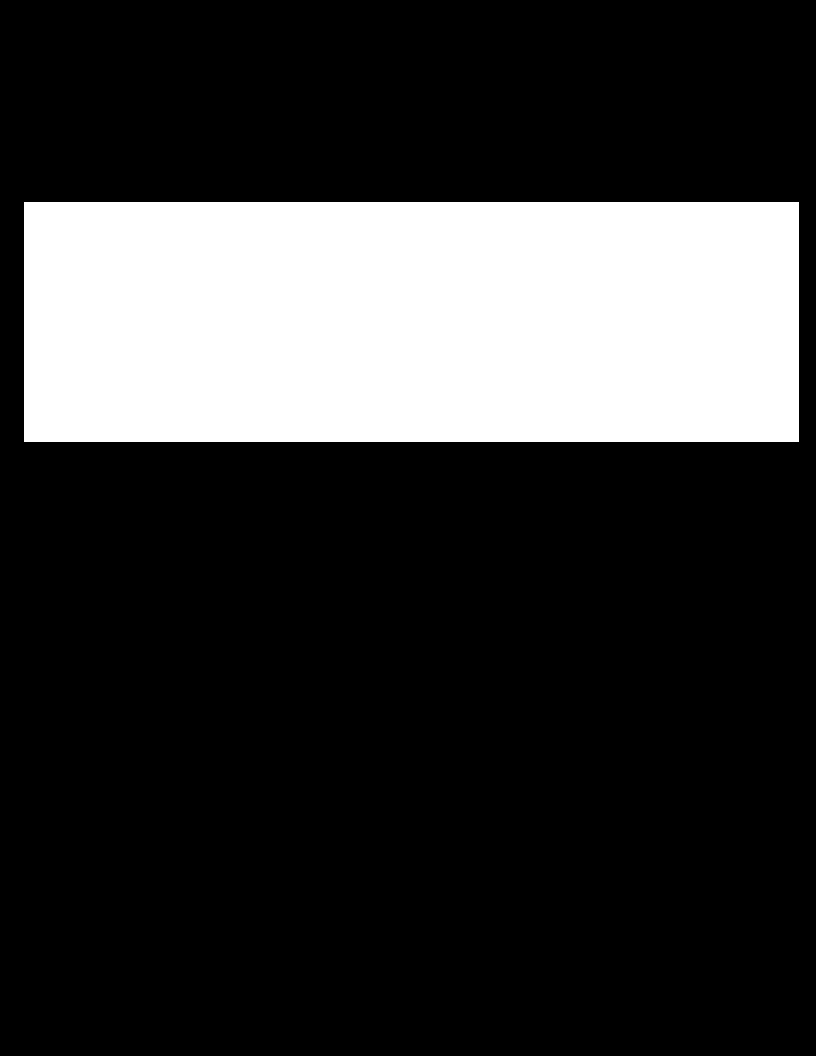table: (24, 202, 798, 441)
